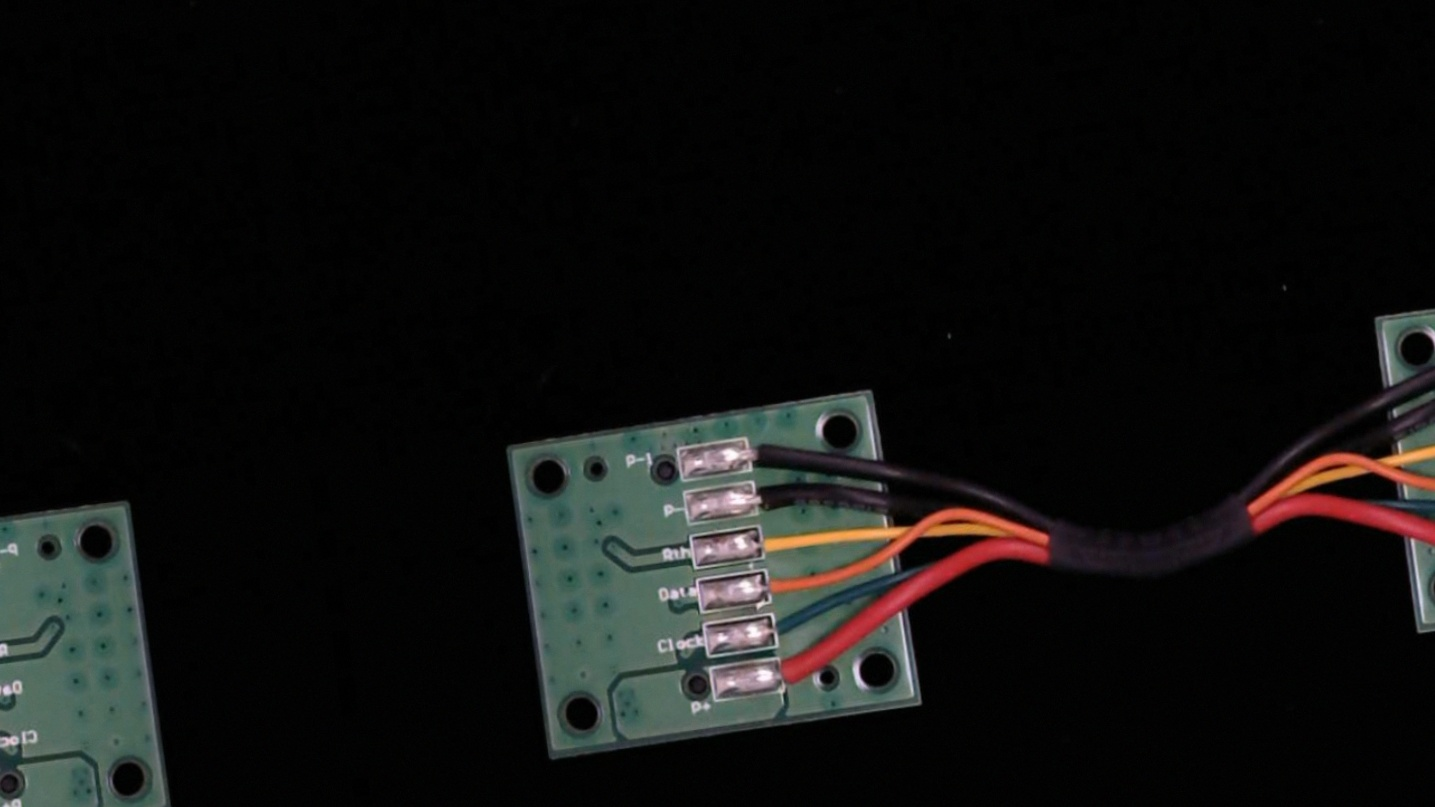Black: (740, 471, 821, 519)
Black1: (732, 427, 808, 473)
Green: (753, 604, 825, 651)
Orange: (750, 560, 832, 607)
Red: (761, 648, 833, 696)
Yellow: (744, 513, 826, 567)
